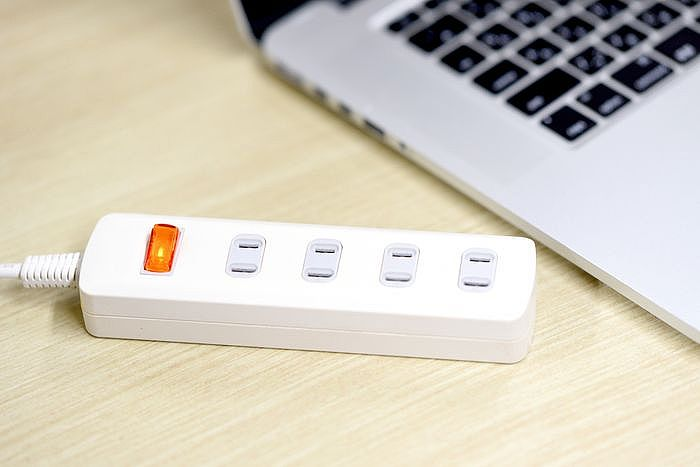socket: (19, 211, 542, 366)
